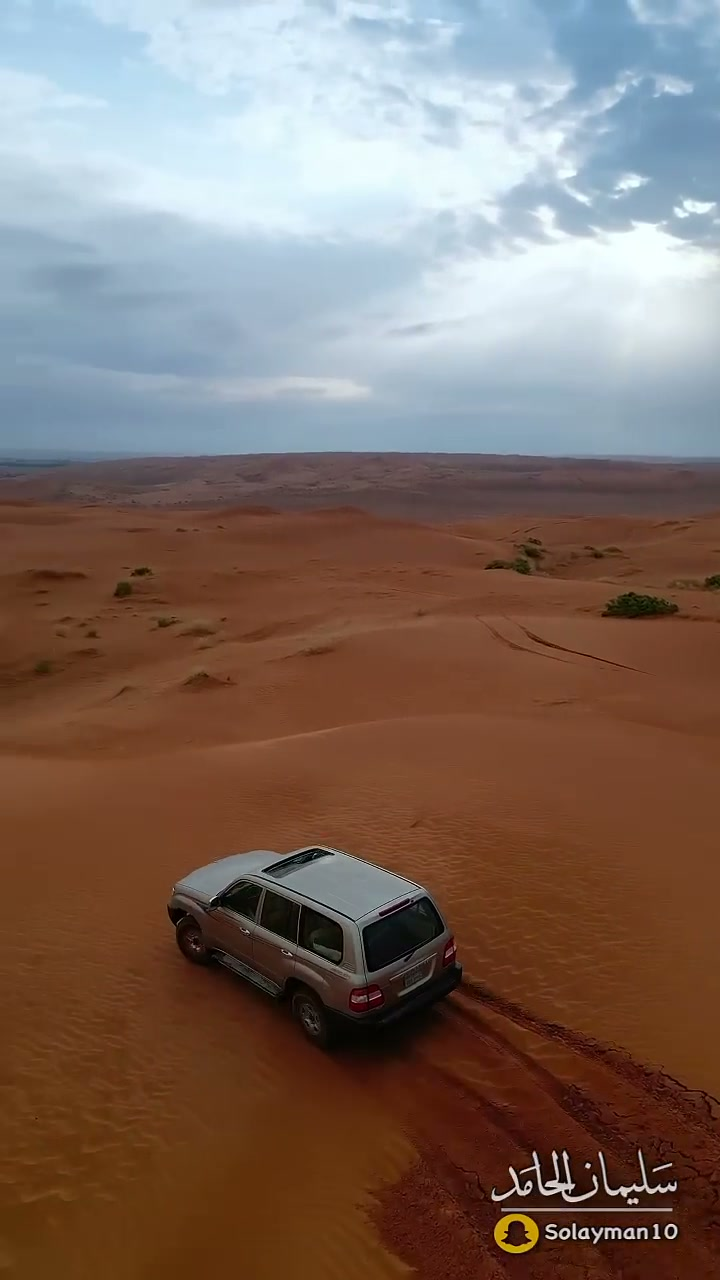vehicle_track: (376, 981, 719, 1279), (476, 615, 647, 674), (516, 623, 646, 673), (476, 616, 570, 664)
